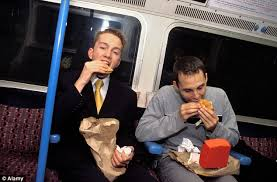eating: (158, 55, 266, 174), (82, 26, 144, 139)
